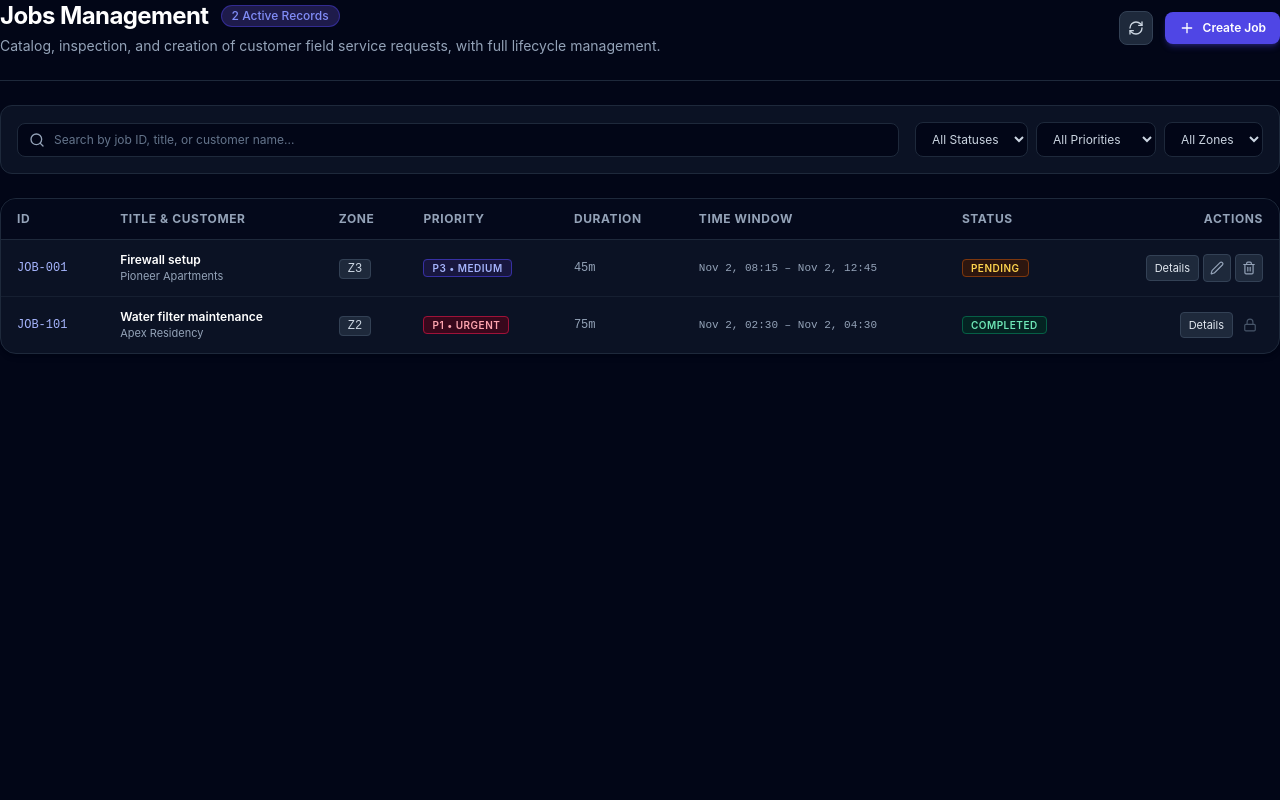
Test case: JobsPage Component › opens job detail modal and displays state history
The width and height of the screenshot is (1280, 800).
Expected: the text "Firewall setup" is shown, [120,252,201,267]
Click the button named "View Details": [1172, 268] box [1146,255,1199,281]
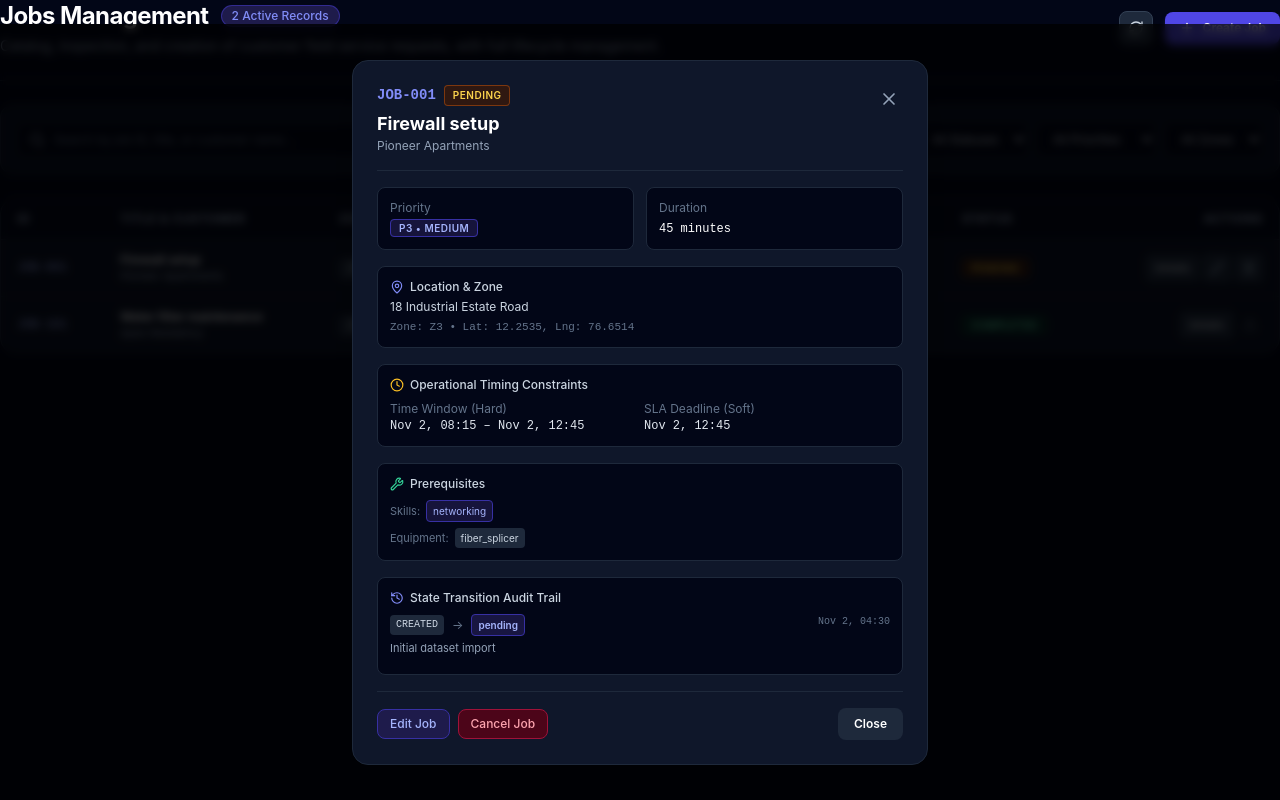
Expected: the element with test id "job-detail-modal" is shown
Expected: the text "Operational Timing Constraints" is shown, [410,376,588,392]
Expected: the text "State Transition Audit Trail" is shown, [410,590,561,606]
